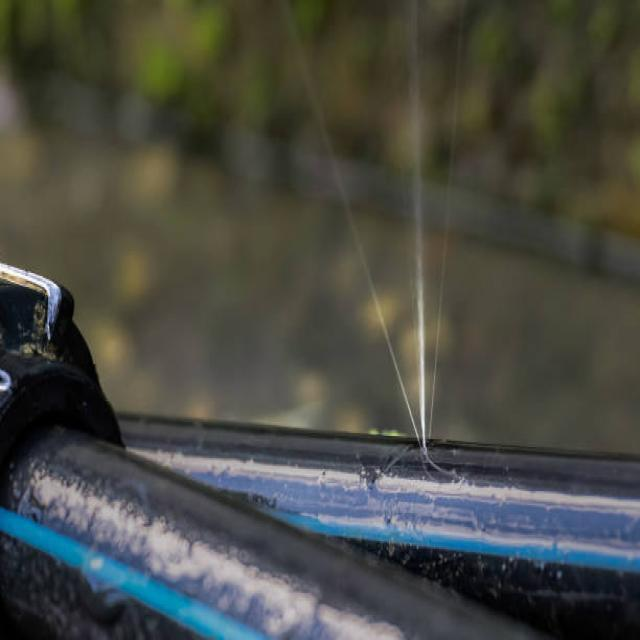pipe burst: (275, 1, 470, 460)
